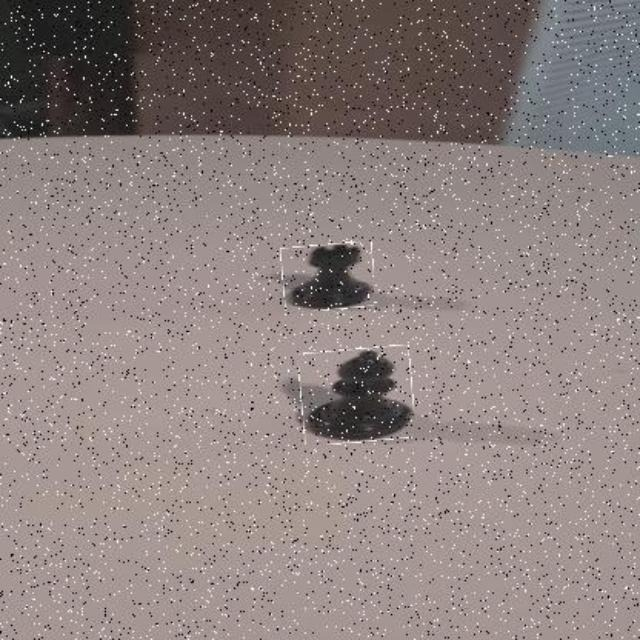black-bishop: (300, 347, 413, 443)
black-pawn: (281, 243, 374, 310)
